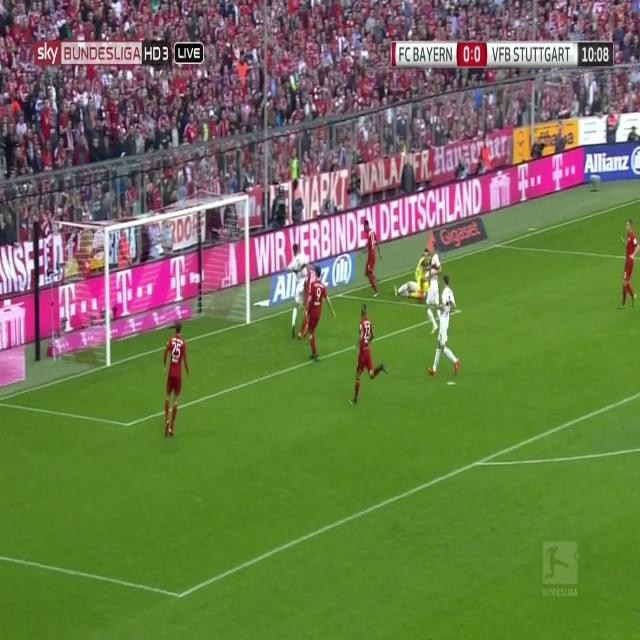Goalkeeper: (390, 249, 430, 302)
Player: (348, 300, 389, 414), (162, 318, 190, 446), (426, 276, 459, 382), (306, 266, 338, 366), (282, 241, 309, 339), (617, 217, 640, 310), (362, 220, 385, 303), (426, 240, 443, 340)
